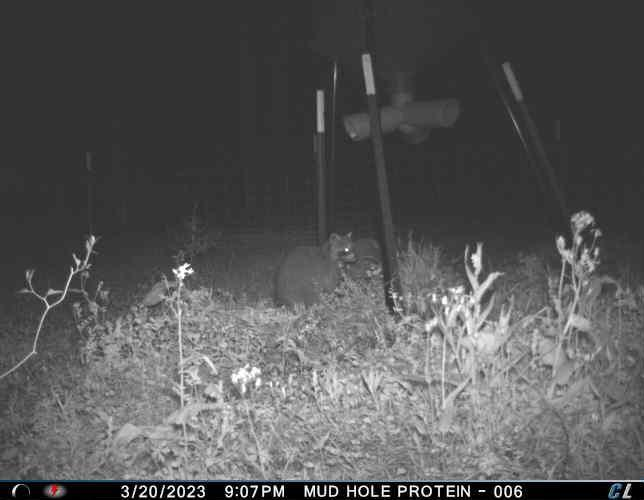Raccoon: (274, 229, 356, 313)
